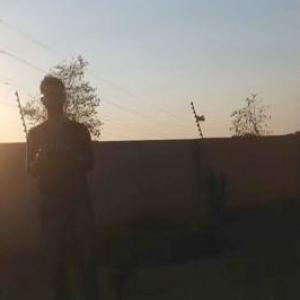follow: (24, 68, 102, 299)
